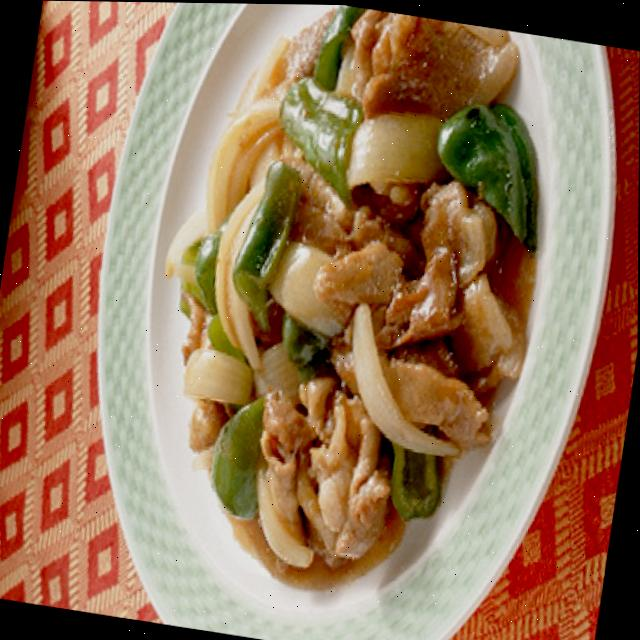猪肉菜式: (111, 1, 568, 615)
